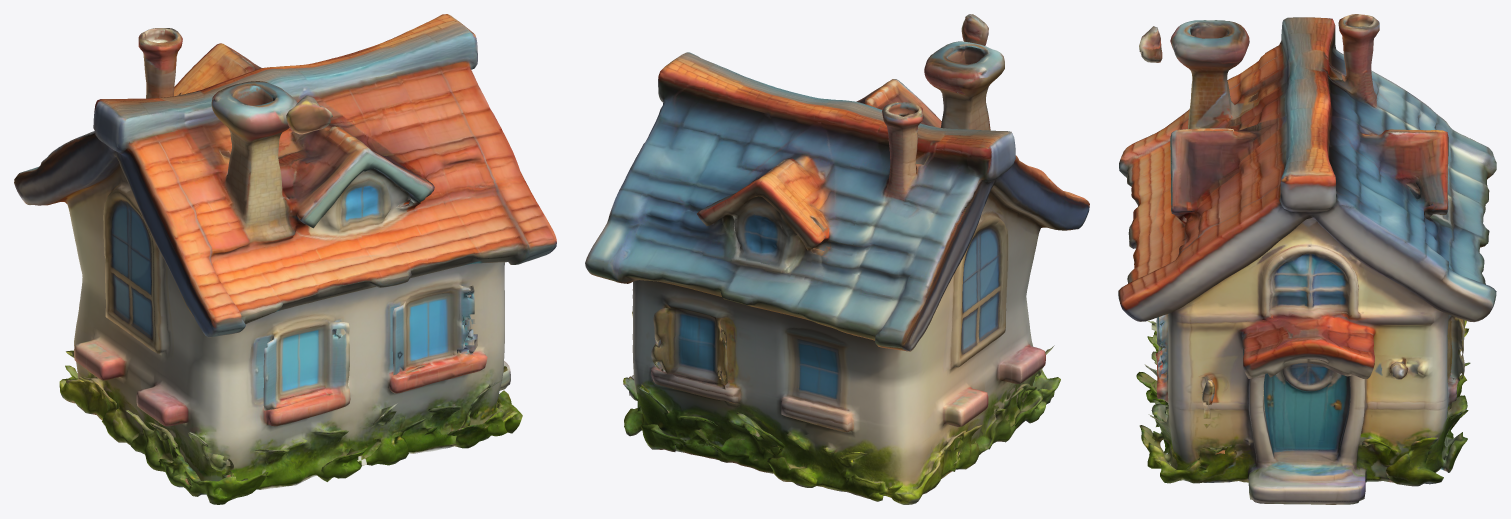
Rendered from cartoon_house.glb.
The picture shows the model from 3 angles, left to right: view 1: azimuth 30°, elevation 25°; view 2: azimuth 150°, elevation 25°; view 3: azimuth 270°, elevation 25°; orthographic projection. The views are drawn at different scales.
Size of the model in its own units: 2 by 1.91 by 1.8.
Materials: 1 (1 with a texture image).
